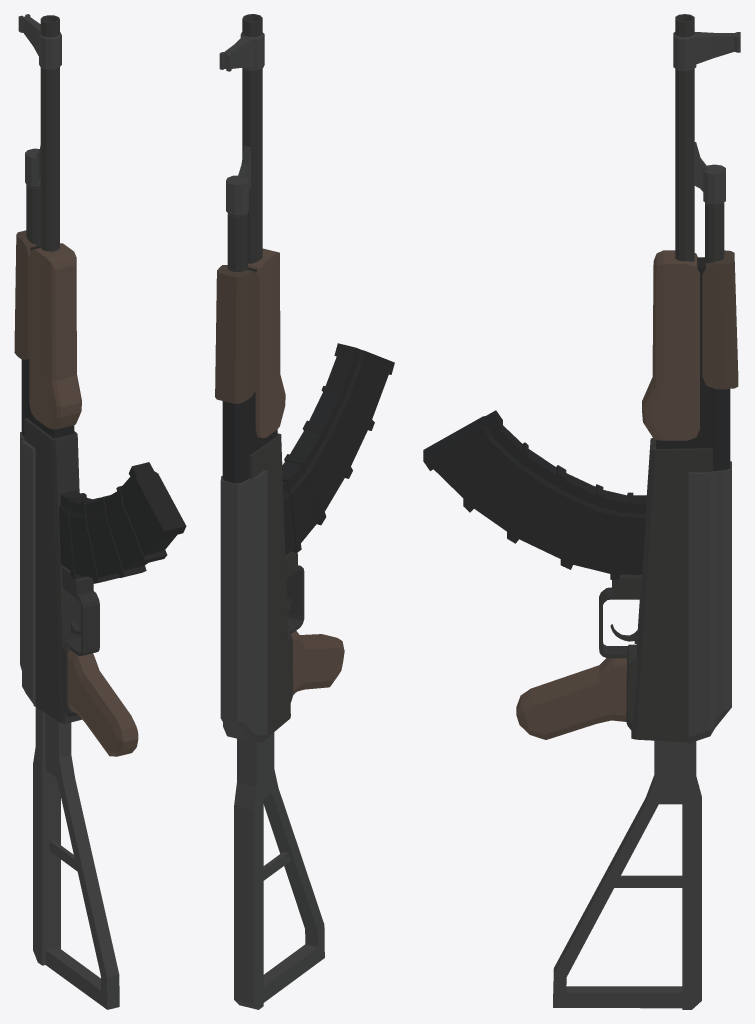
Rendered from assaultrifle-4.glb.
The picture shows the model from 3 angles, left to right: view 1: azimuth 30°, elevation 25°; view 2: azimuth 150°, elevation 25°; view 3: azimuth 270°, elevation 25°; orthographic projection. The views are drawn at different scales.
Parts seen in each view (by area): view 1: AssaultRifle_4; view 2: AssaultRifle_4; view 3: AssaultRifle_4.
Part boxes in pixels (<box>): AssaultRifle_4: <box>14,14,186,1009</box>; AssaultRifle_4: <box>215,14,394,1009</box>; AssaultRifle_4: <box>423,14,740,1009</box>.
Size of the model in its own units: 3.03 by 85 by 24.78.
